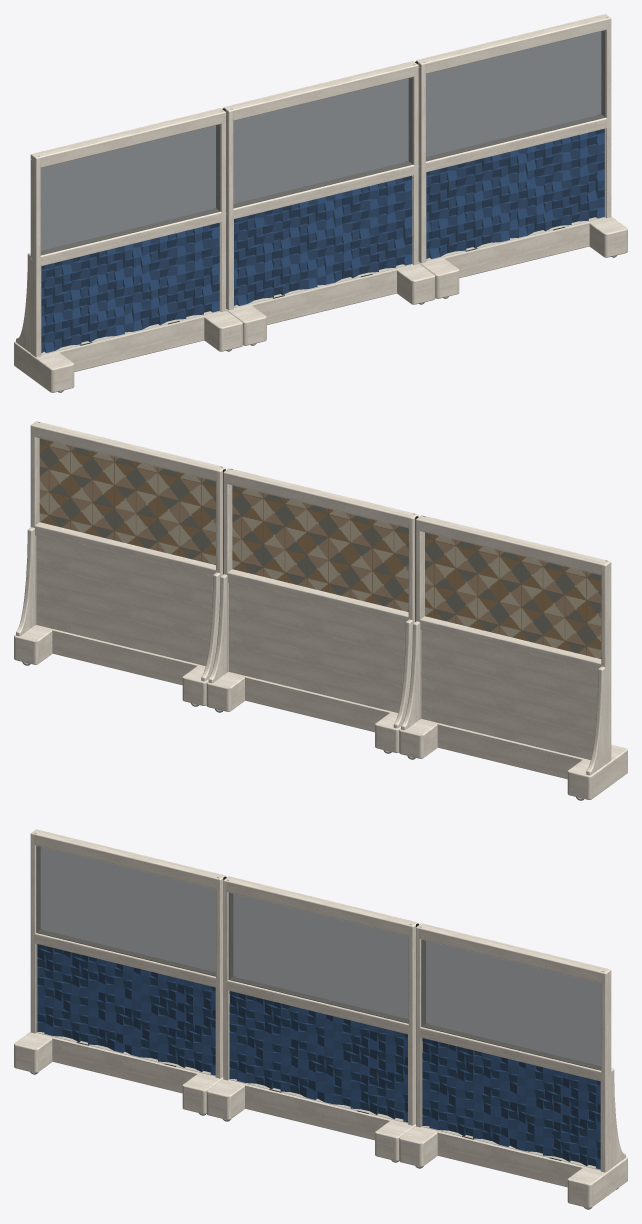
The model's file is v10-linen-marquetry-saltwashed-oak-three.glb.
3 views of the same model, one above another, from view 1: azimuth 30°, elevation 25°; view 2: azimuth 150°, elevation 25°; view 3: azimuth 330°, elevation 25° (orthographic).
Parts seen in each view (by area): view 1: Left Wood, Left Linen Marquetry reverse, Linen Marquetry reverse, Right Linen Marquetry reverse, Cover glass, Right Navy Everwood relief, Left Navy Everwood relief, Navy Everwood relief, Right Cover glass, Left Cover glass, Right Wood, Wood; view 2: Left Wood, Wood, Right Wood, Linen Marquetry print, Right Linen Marquetry print, Left Linen Marquetry print; view 3: Right Wood, Linen Marquetry reverse, Right Linen Marquetry reverse, Left Linen Marquetry reverse, Cover glass, Left Navy Everwood relief, Right Navy Everwood relief, Navy Everwood relief, Right Cover glass, Left Cover glass, Left Wood, Wood.
Part boxes in pixels (x1,y1,x2,y2): Left Wood: [14, 108, 242, 392]; Left Linen Marquetry reverse: [40, 124, 220, 255]; Linen Marquetry reverse: [233, 77, 413, 208]; Right Linen Marquetry reverse: [426, 30, 605, 161]; Cover glass: [234, 176, 412, 306]; Right Navy Everwood relief: [426, 128, 604, 258]; Left Navy Everwood relief: [41, 223, 219, 352]; Navy Everwood relief: [234, 175, 412, 305]; Right Cover glass: [427, 129, 604, 259]; Left Cover glass: [42, 223, 219, 353]; Right Wood: [416, 14, 627, 298]; Wood: [223, 61, 435, 345]; Left Wood: [399, 515, 627, 799]; Wood: [206, 468, 418, 752]; Right Wood: [14, 421, 225, 705]; Linen Marquetry print: [232, 485, 408, 611]; Right Linen Marquetry print: [39, 438, 215, 564]; Left Linen Marquetry print: [425, 532, 601, 658]; Right Wood: [399, 923, 627, 1207]; Linen Marquetry reverse: [228, 892, 408, 1023]; Right Linen Marquetry reverse: [421, 940, 601, 1070]; Left Linen Marquetry reverse: [36, 846, 215, 976]; Cover glass: [229, 991, 407, 1122]; Left Navy Everwood relief: [37, 944, 215, 1075]; Right Navy Everwood relief: [422, 1038, 600, 1169]; Navy Everwood relief: [229, 991, 407, 1122]; Right Cover glass: [422, 1038, 599, 1169]; Left Cover glass: [37, 944, 214, 1075]; Left Wood: [14, 829, 225, 1114]; Wood: [206, 876, 418, 1161].
Bounding box in the file's own units: 5.03 × 1.91 × 0.5842.
Materials: 10 (2 with a texture image).
